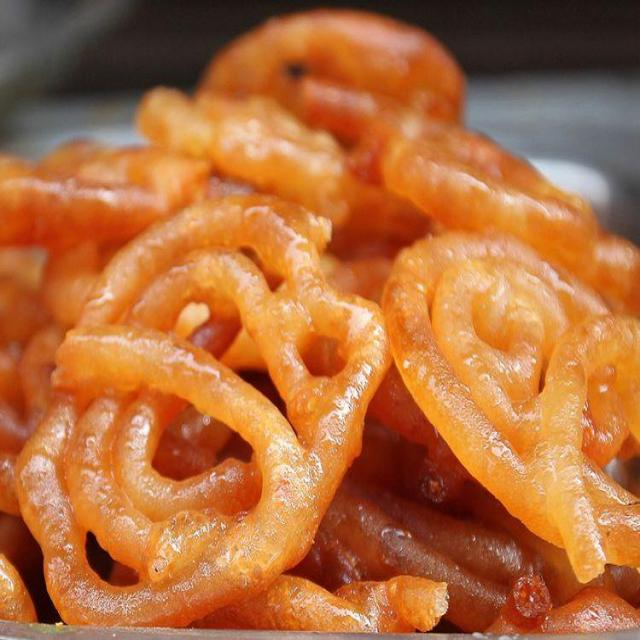jalebi: (5, 25, 640, 630)
